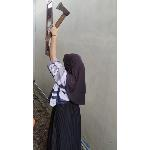Kapak: (44, 0, 74, 42)
